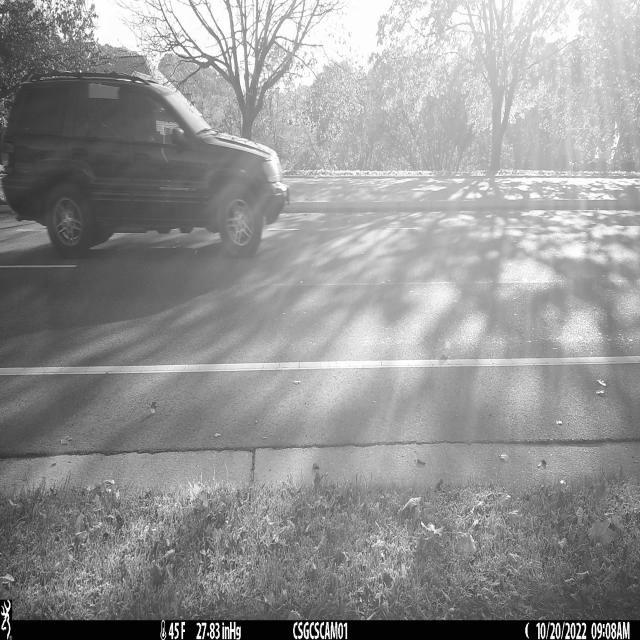SUV: (0, 76, 288, 260)
